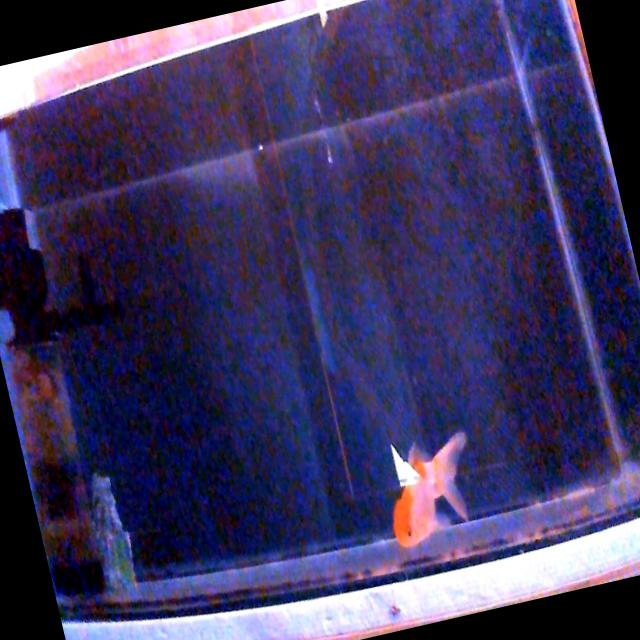fish: (374, 426, 489, 550)
